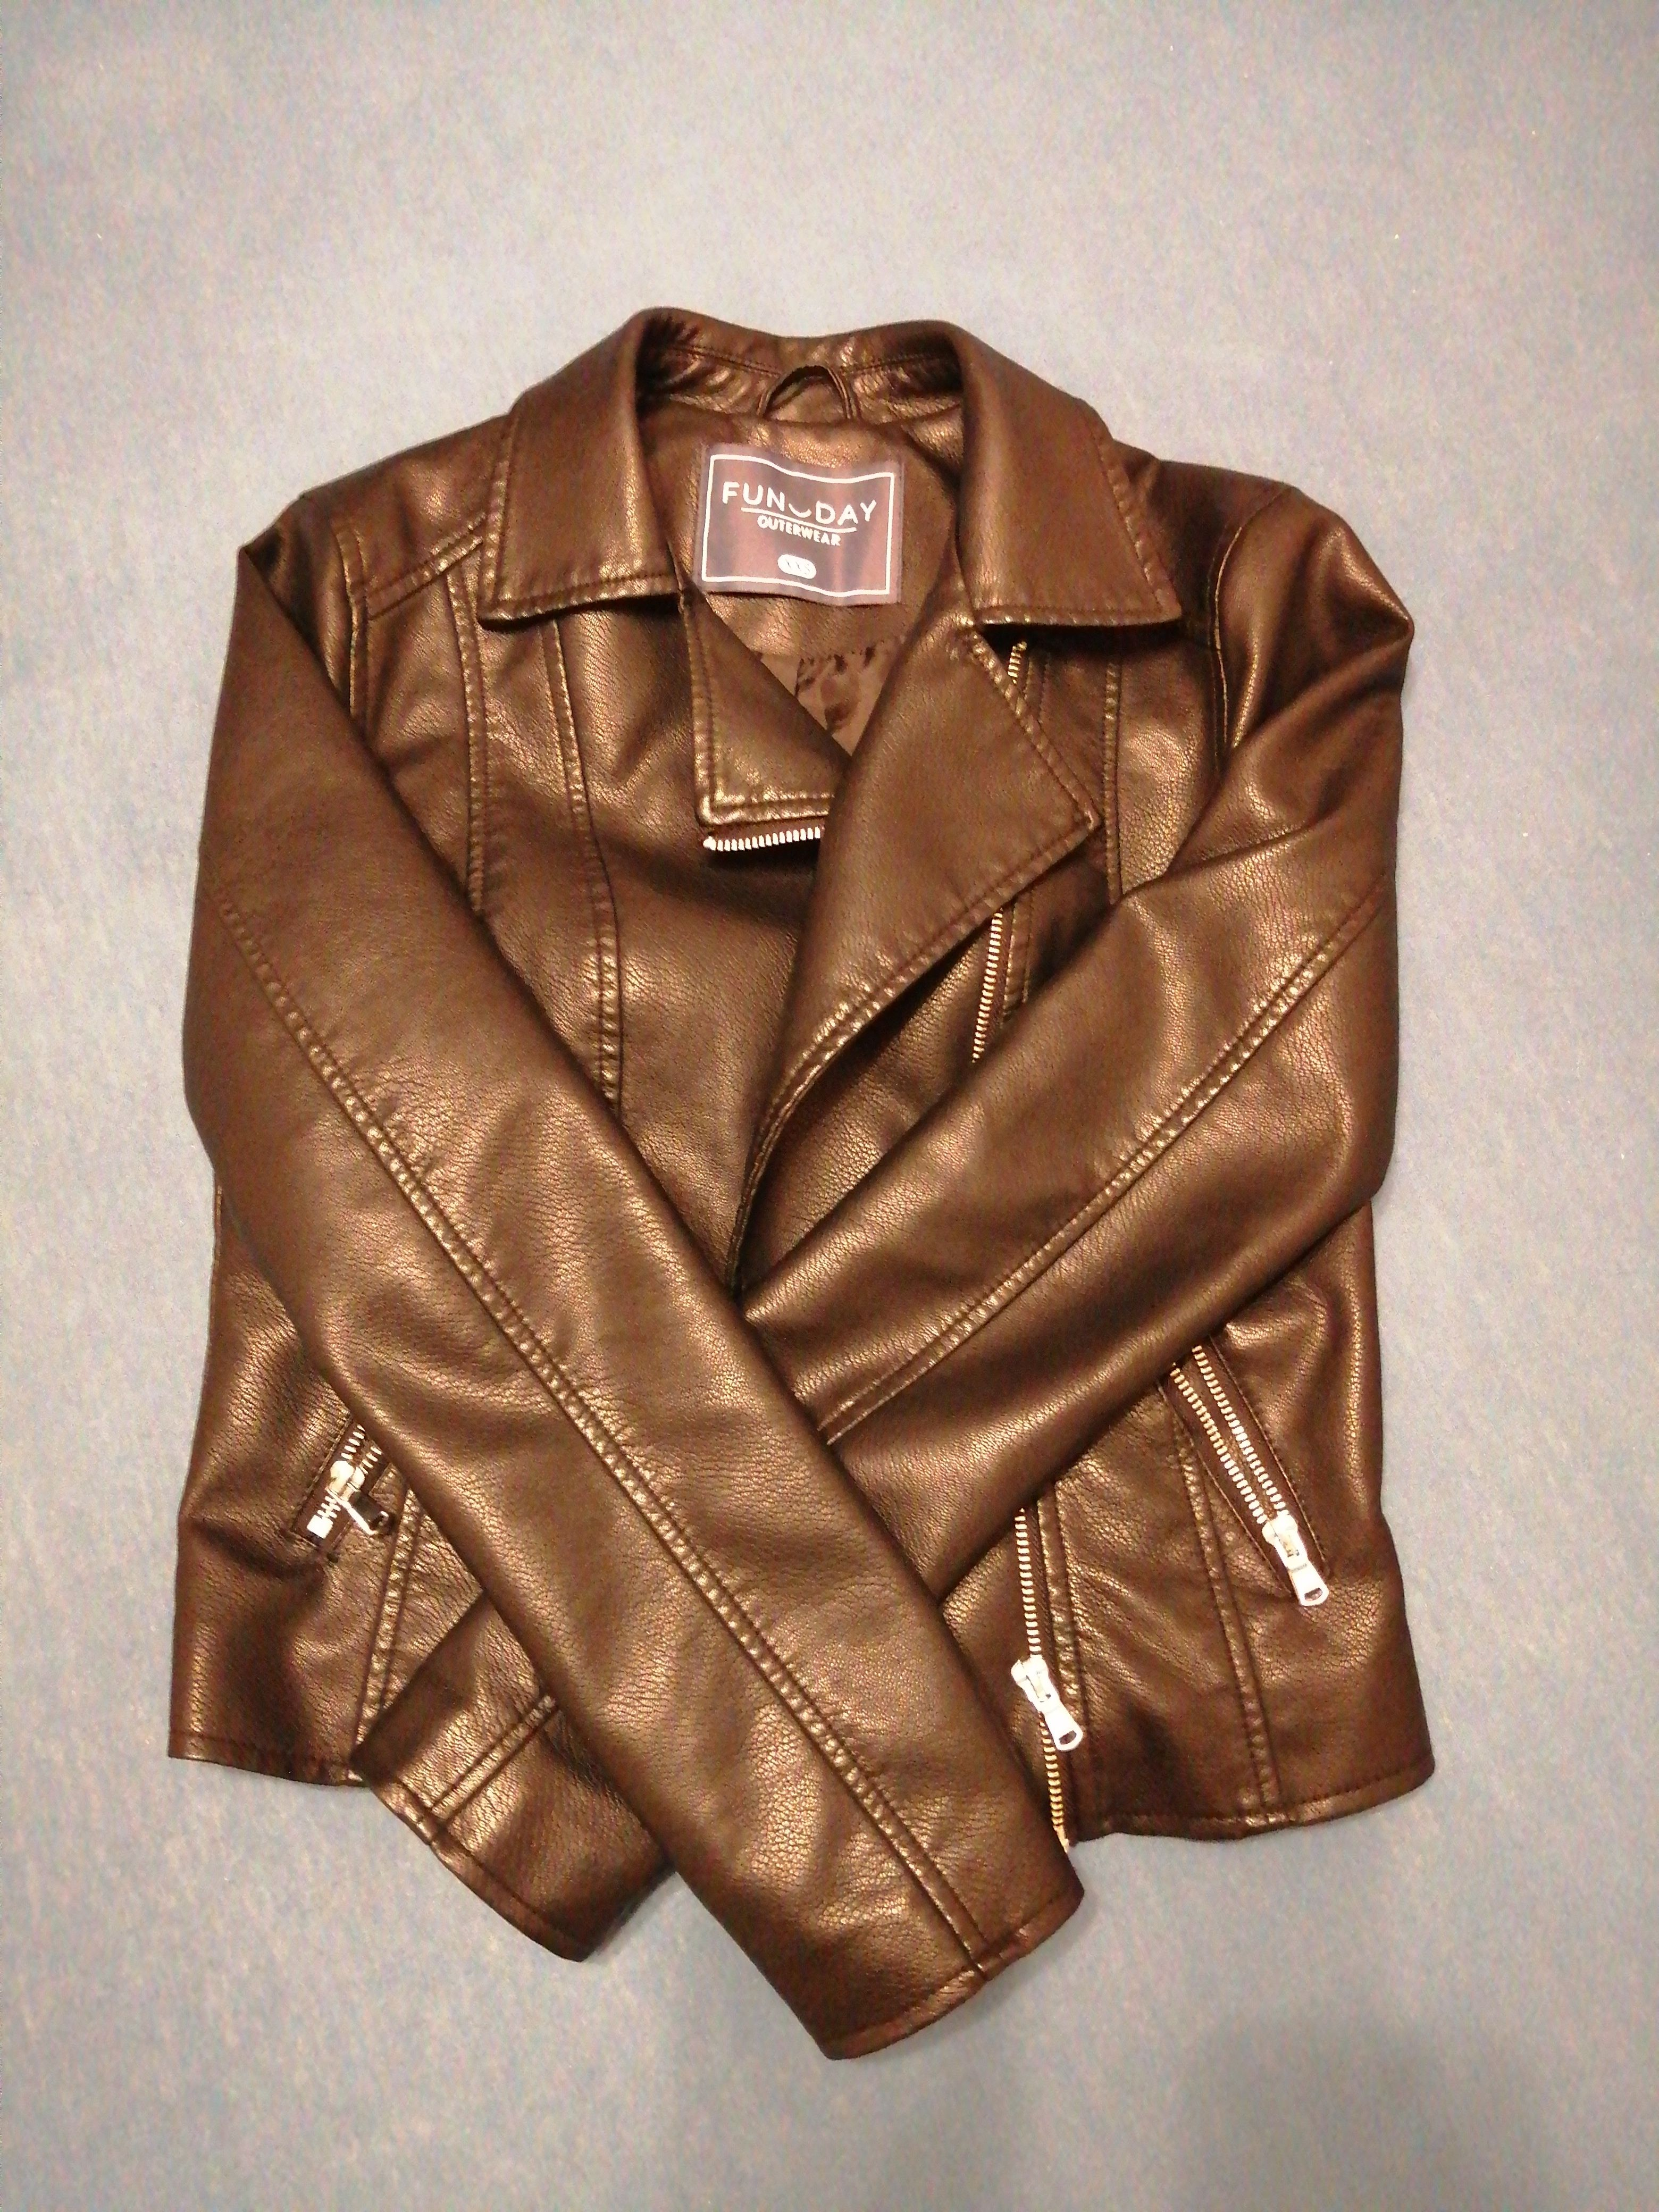clothes: (146, 270, 1460, 1993)
